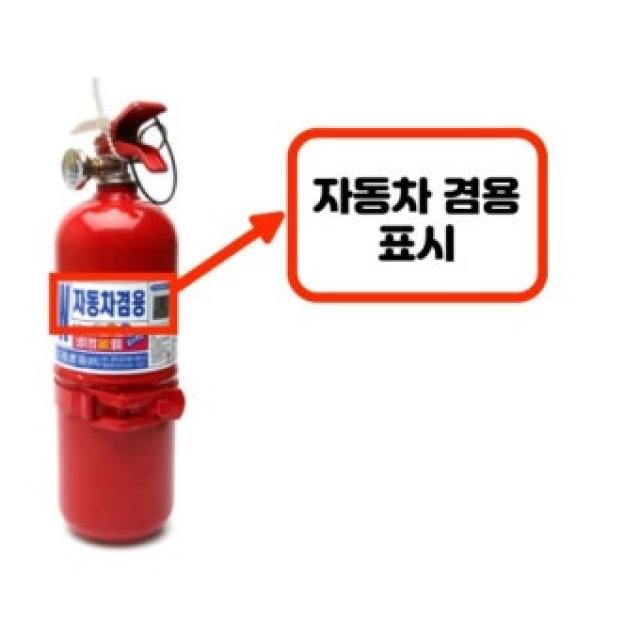pressure gauge: (64, 151, 96, 188)
